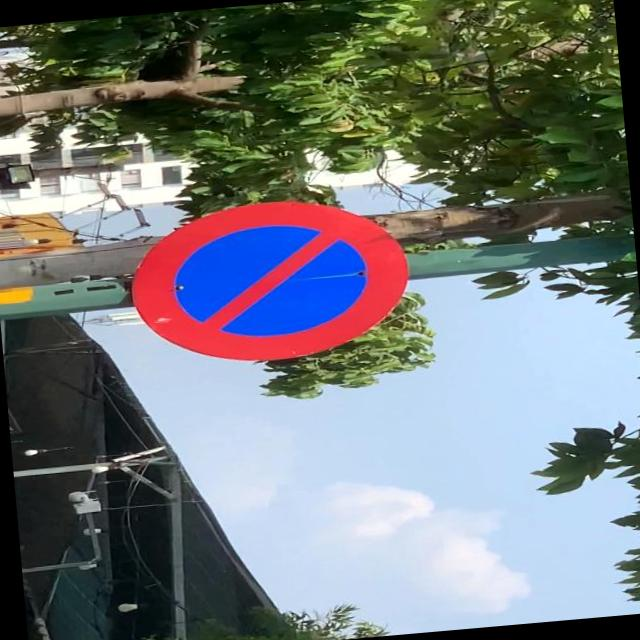P-131a: (127, 192, 414, 370)
